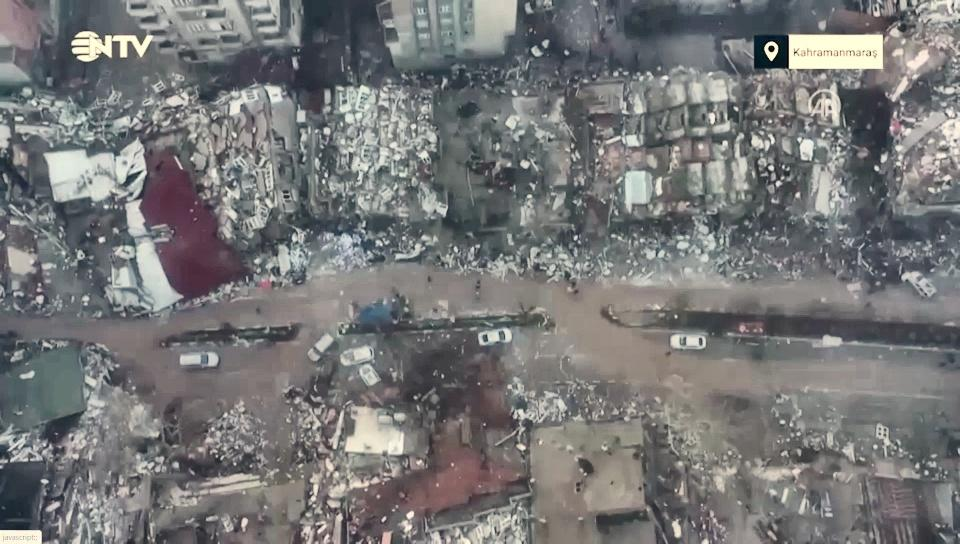kapali: (0, 239, 349, 334), (257, 327, 548, 419), (0, 346, 180, 426)
